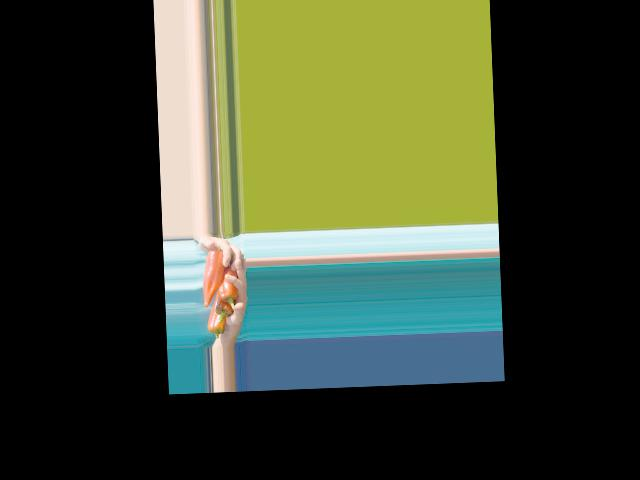bell_pepper: (206, 301, 228, 339)
